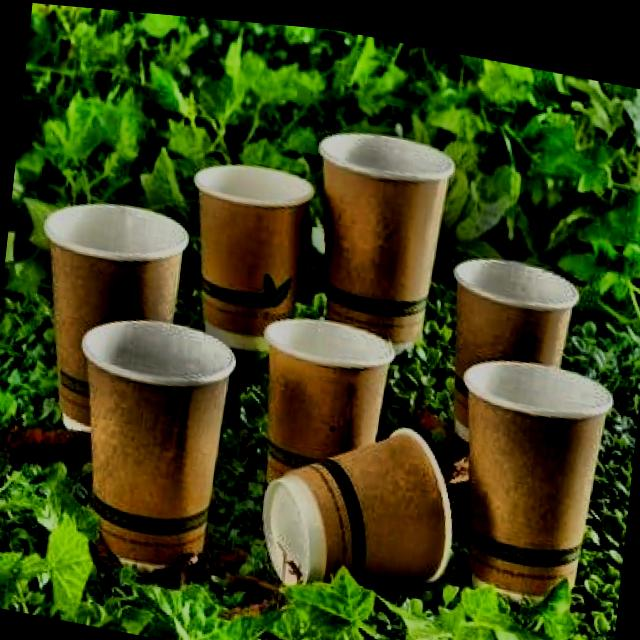Cup: (20, 165, 209, 451), (59, 301, 245, 586), (254, 378, 468, 617), (442, 332, 618, 611), (292, 123, 473, 358), (239, 303, 412, 526), (175, 126, 326, 370), (427, 237, 590, 463)
